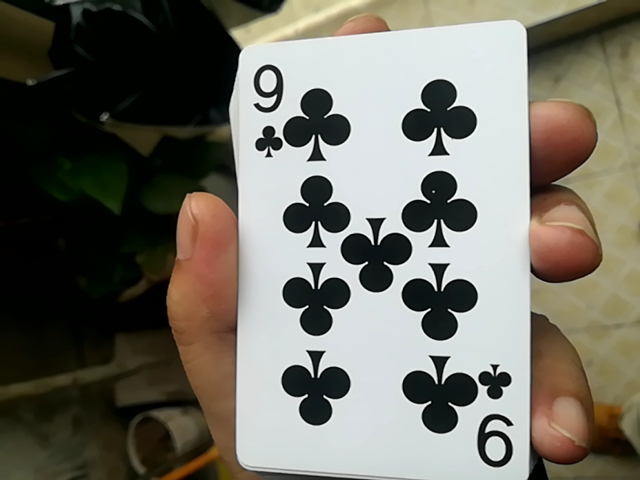mh 9: (215, 15, 526, 479)
